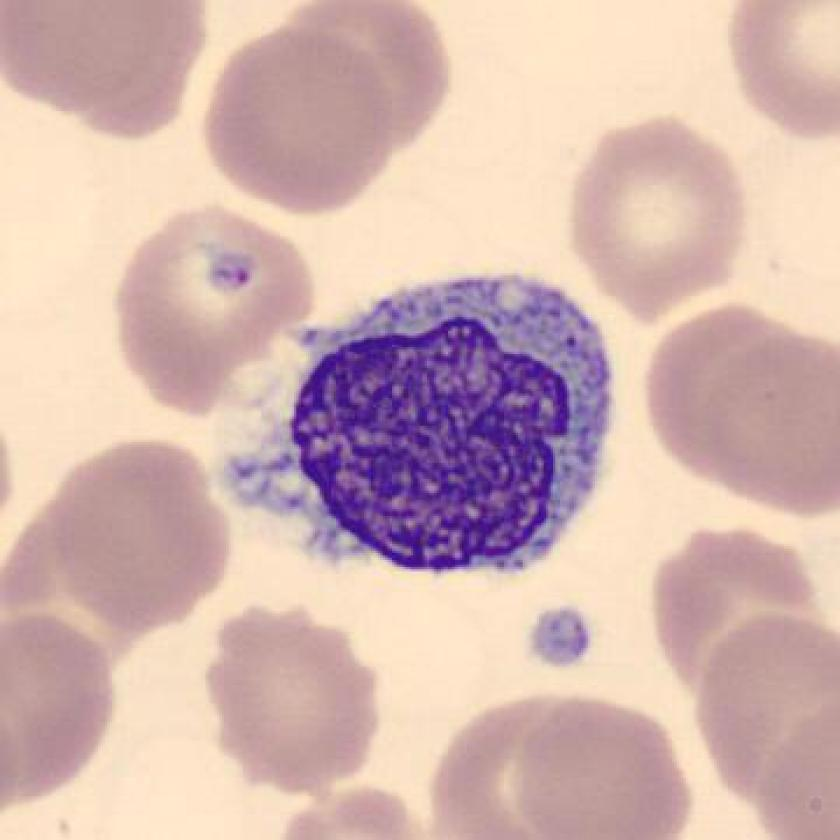monocyte: (195, 244, 645, 612)
